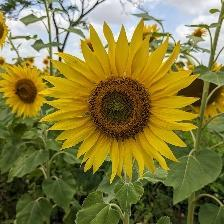sunflower: (37, 17, 206, 187)
